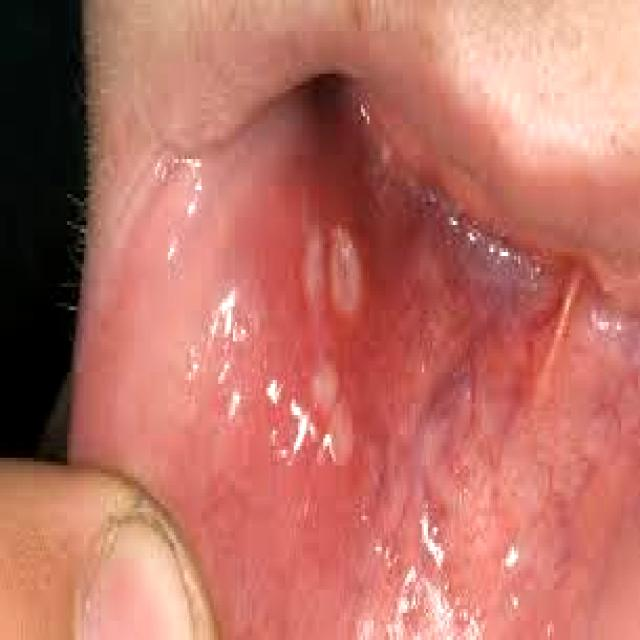ulcer: (302, 209, 361, 330), (329, 225, 361, 310), (327, 403, 350, 458), (311, 365, 336, 403)
